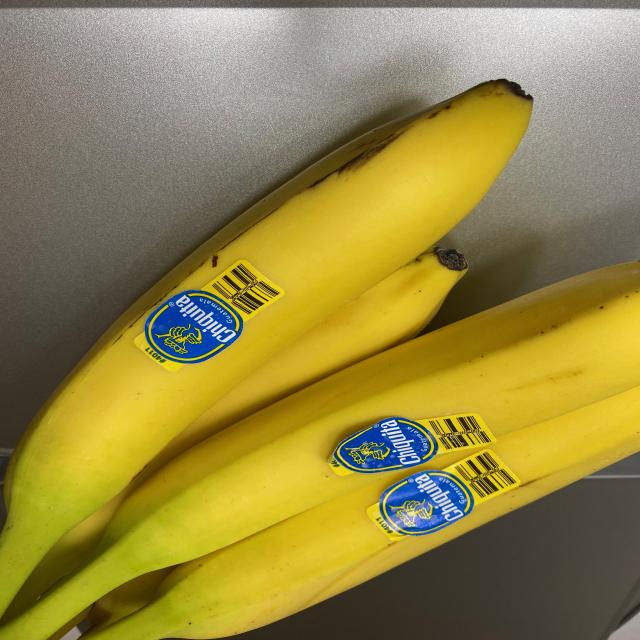Banana: (4, 77, 632, 639)
